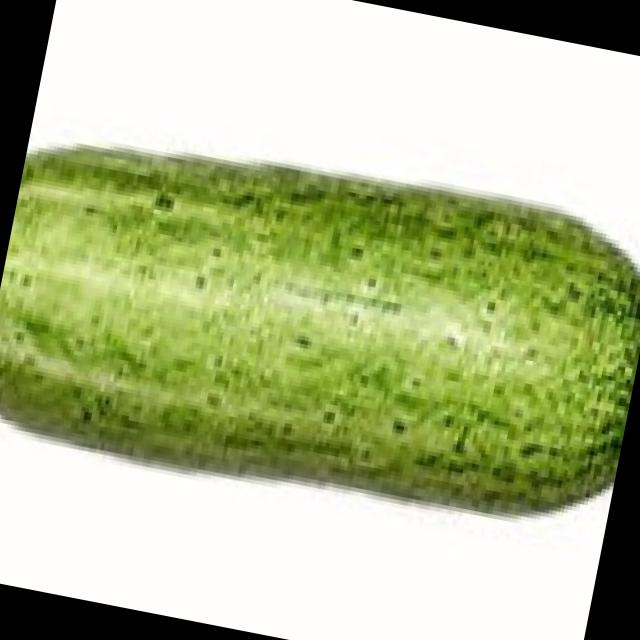cucumber: (0, 92, 640, 555)
